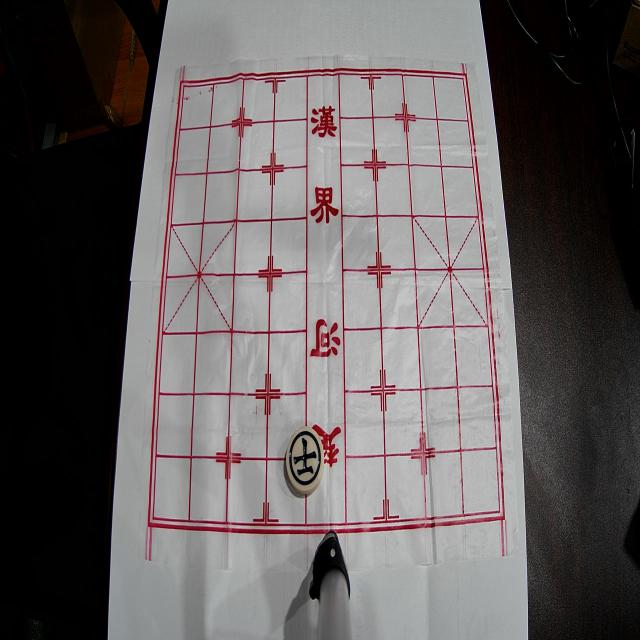black-guard: (286, 426, 324, 494)
